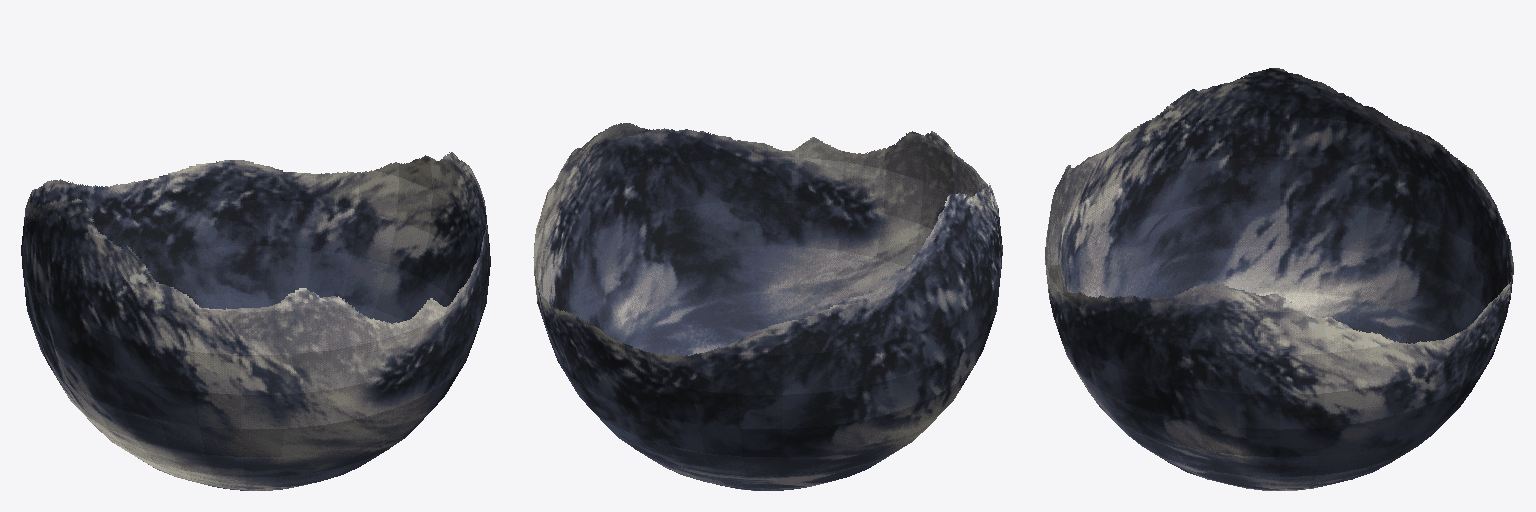
3 renders of one model, left to right at view 1: azimuth 30°, elevation 25°; view 2: azimuth 150°, elevation 25°; view 3: azimuth 270°, elevation 25°, orthographic.
Visible parts, largest first — view 1: landmnt; view 2: landmnt; view 3: landmnt.
Part boxes in pixels (x1,y1,x2,y2): landmnt: (21, 152, 490, 490); landmnt: (533, 123, 1002, 490); landmnt: (1045, 68, 1513, 490).
Bounding box in the file's own units: 1080 × 1080 × 1080.
1 materials, 1 textured.